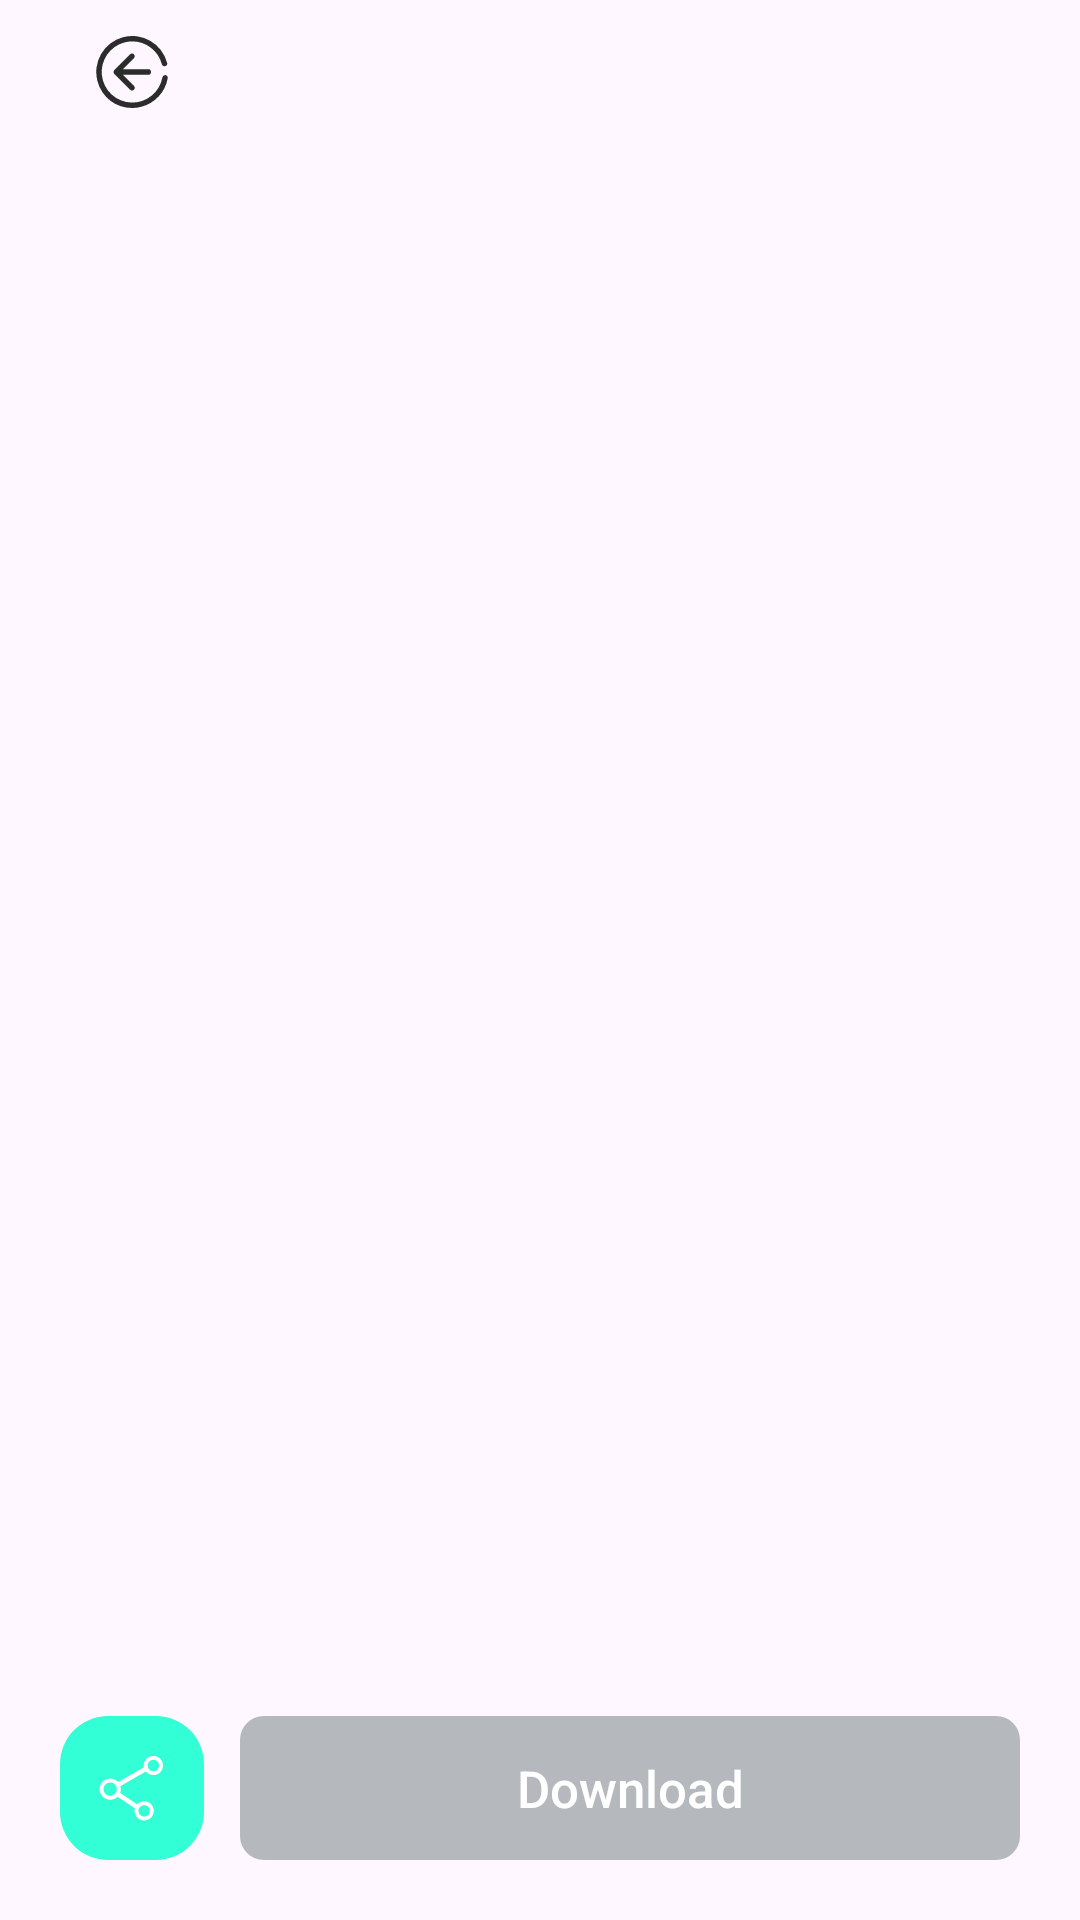

Point at icon controls on the screen. Image size 1080 × 1920, points as [x,y].
return: [132,72]
share: [132,1788]
